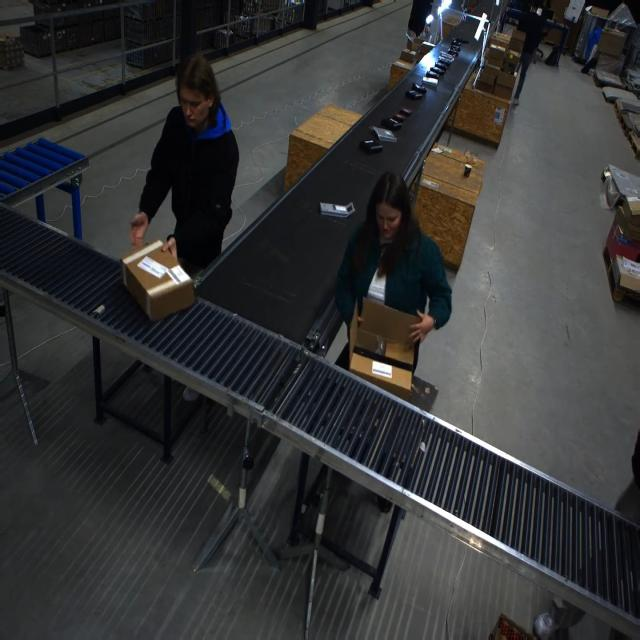box: (348, 297, 418, 401), (120, 240, 195, 320)
product: (319, 201, 354, 218), (369, 126, 398, 142), (358, 139, 382, 154), (418, 76, 442, 90), (404, 86, 423, 103), (380, 117, 401, 130), (391, 113, 407, 124), (436, 60, 451, 71), (430, 65, 444, 75), (398, 107, 412, 117), (450, 38, 465, 45)
